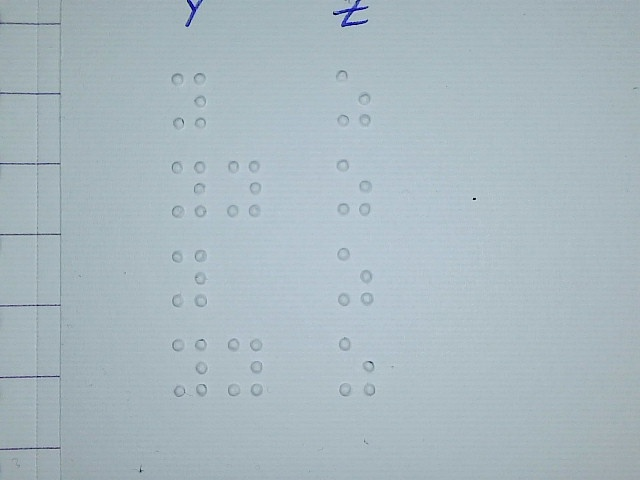Y: (170, 70, 209, 130), (169, 158, 208, 218), (225, 158, 264, 218), (170, 247, 209, 307), (171, 337, 210, 397), (225, 337, 264, 397)
Z: (334, 68, 373, 128), (335, 157, 374, 217), (335, 246, 374, 306), (338, 336, 377, 396)
